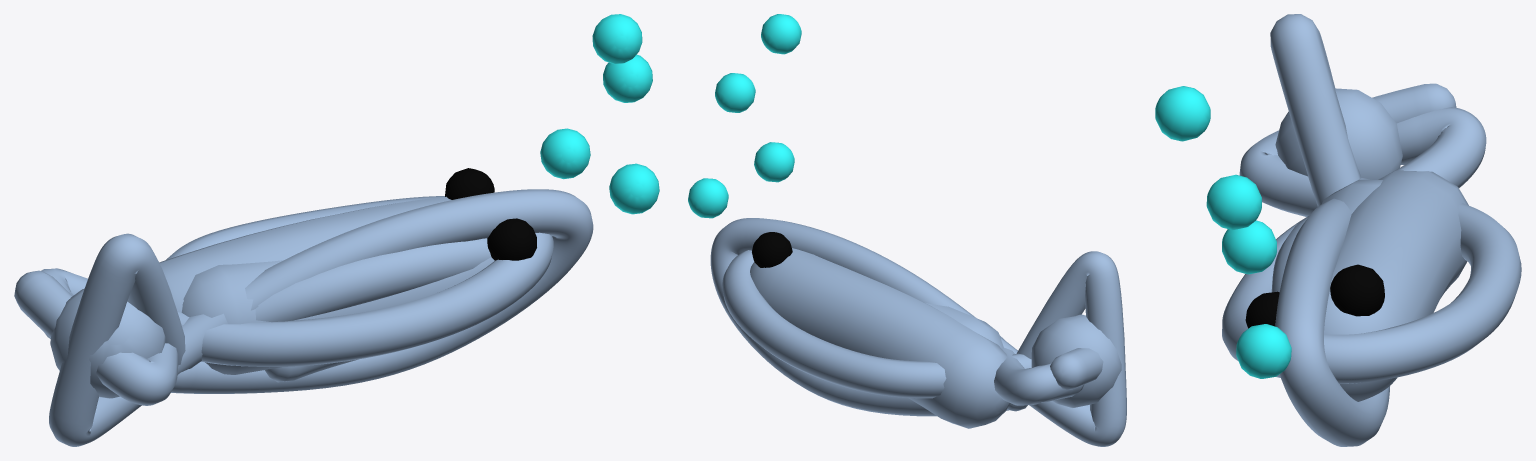
Rendered from frish.fbx.
The picture shows the model from 3 angles, left to right: view 1: azimuth 30°, elevation 25°; view 2: azimuth 150°, elevation 25°; view 3: azimuth 270°, elevation 25°; orthographic projection. The views are drawn at different scales.
Parts seen in each view (by area): view 1: fish; view 2: fish; view 3: fish.
Boxes of the visible parts, <box> form: fish: <box>14,14,659,446</box>; fish: <box>688,14,1126,446</box>; fish: <box>1155,14,1521,446</box>.
Bounding box in the file's own units: 107 × 68.45 × 54.14.
